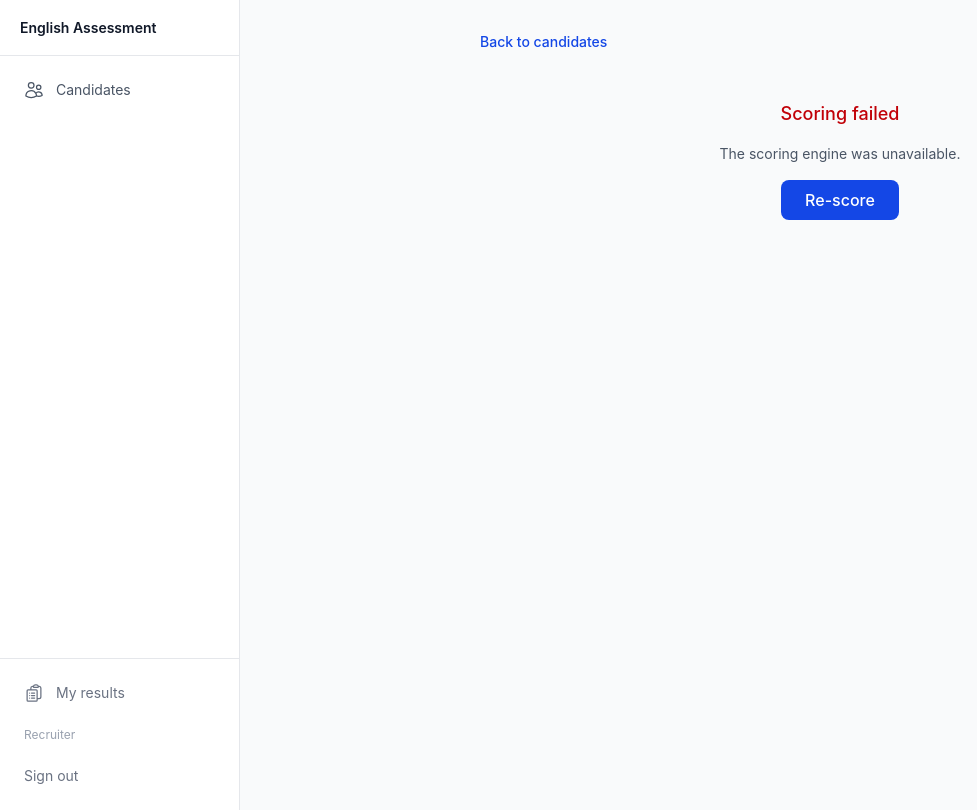
Test: re-score runs the pipeline and shows the finished report
Click the button "Re-score" at point(840, 200), box [781,180,899,220]
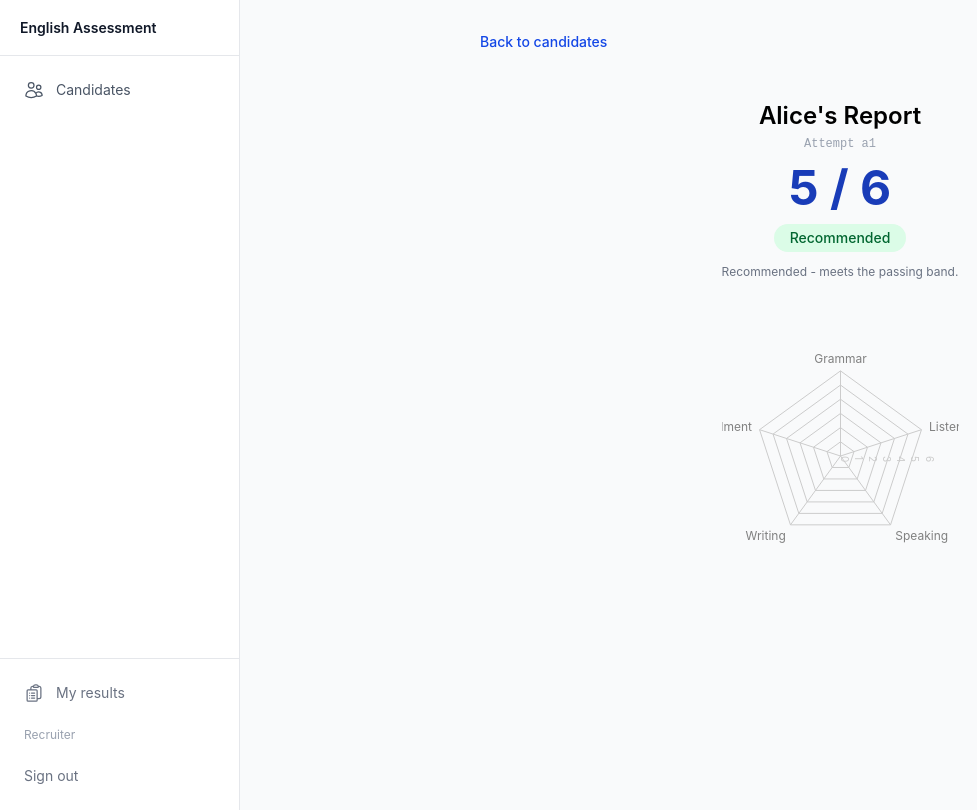
Result: the text "5 / 6" is shown at [789,164,891,212]
